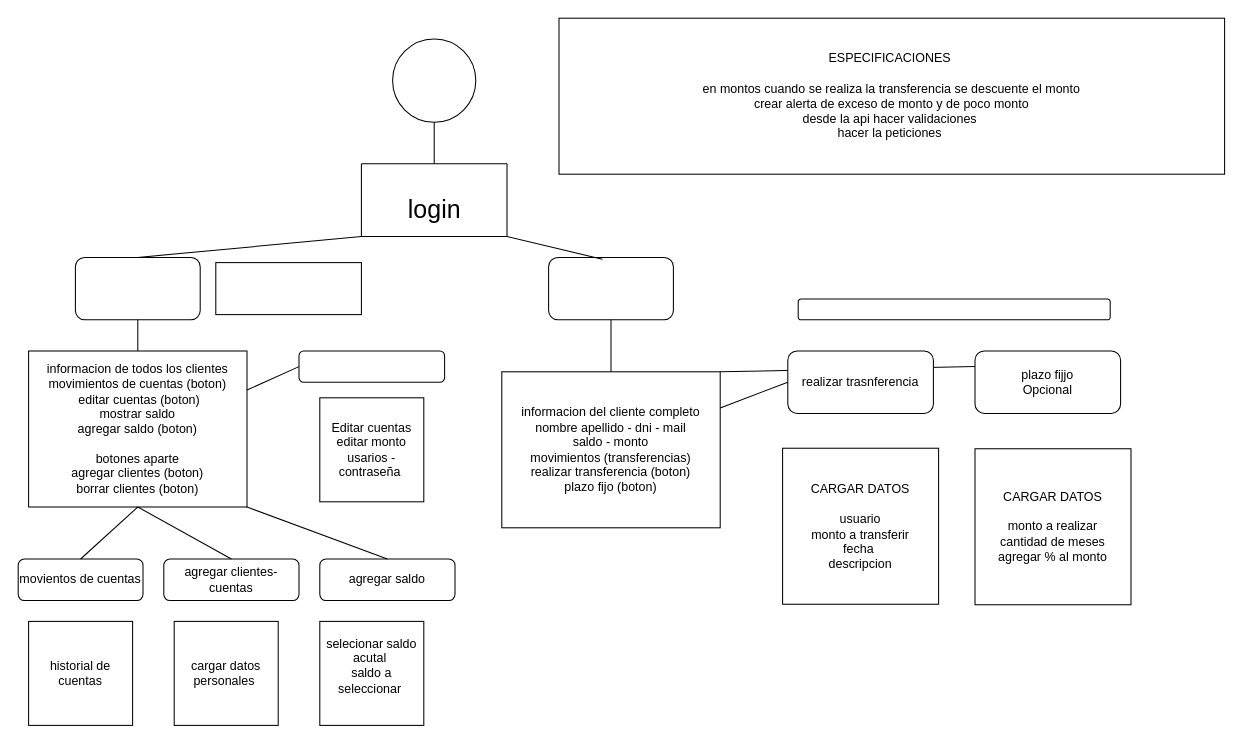
Some shapes in this 1243 by 744 pixel diagram are drawn without their labels. The centre of each missing label's shape, as x and y in pixels:
administrador: point (137, 288)
agregar una descripción de agregar clientes contactar con admin: point (288, 288)
editar cuentas: point (371, 366)
INICIO: point (434, 80)
Paginas: point (953, 309)
usuarios: point (610, 288)
